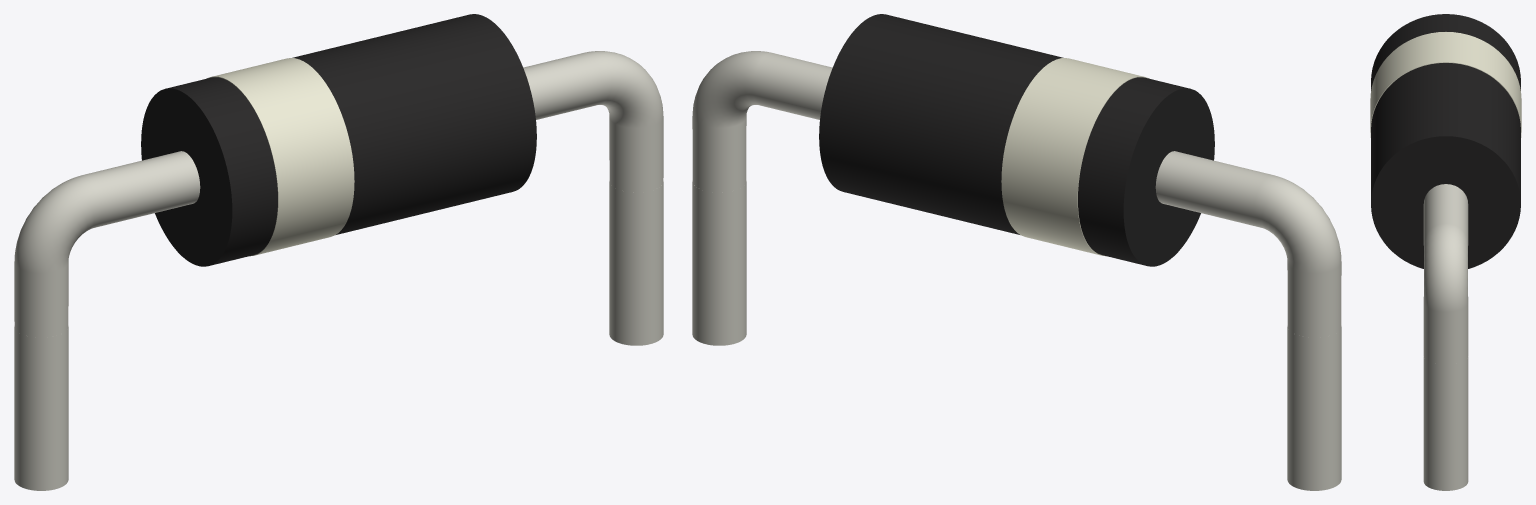
The model's file is d_do_41_p10_16mm_horizontal.glb.
3 views of the same model, side by side, from view 1: azimuth 30°, elevation 25°; view 2: azimuth 150°, elevation 25°; view 3: azimuth 270°, elevation 25° (orthographic). The views are drawn at different scales.
Visible parts, largest first — view 1: diode_do41, pin_1, pin_2; view 2: diode_do41, pin_1, pin_2; view 3: diode_do41, pin_2.
Part boxes in pixels (x1,y1,x2,y2): diode_do41: (14,14,663,337); pin_1: (14,326,68,490); pin_2: (609,181,663,345); diode_do41: (692,14,1341,337); pin_1: (1287,326,1341,490); pin_2: (692,181,746,345); diode_do41: (1370,14,1521,364); pin_2: (1423,356,1468,490).
Size of the model in its own units: 0.011 by 0.00571 by 0.00272.
